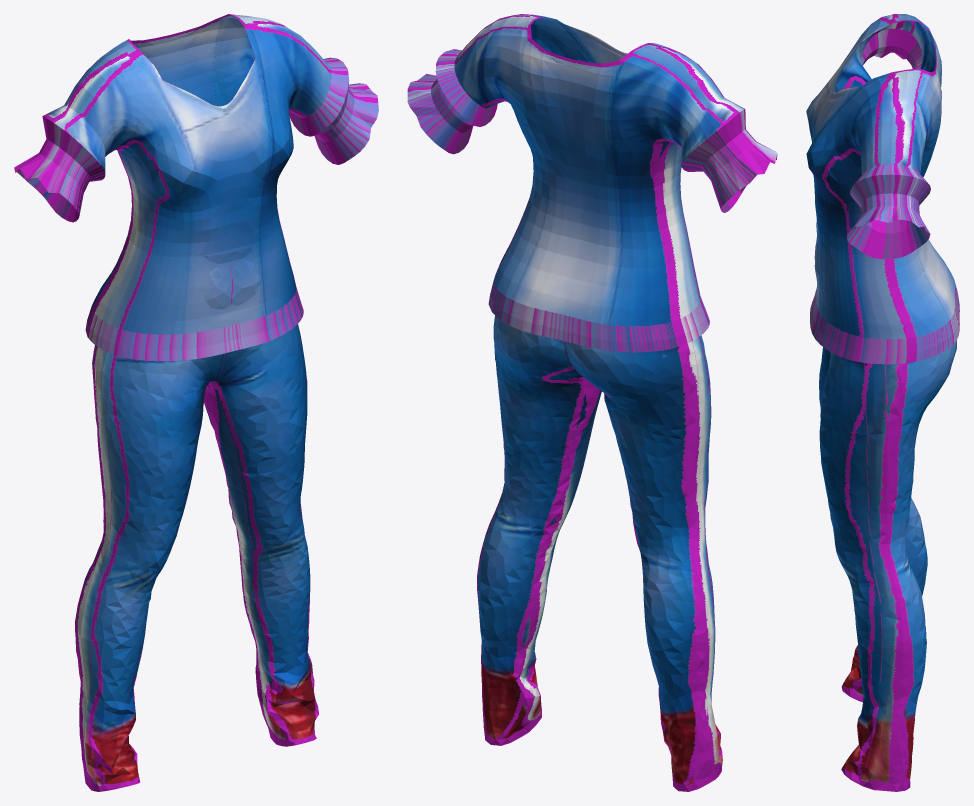
3 views of the same model, side by side, from view 1: azimuth 30°, elevation 25°; view 2: azimuth 150°, elevation 25°; view 3: azimuth 270°, elevation 25° (orthographic). The views are drawn at different scales.
Bounding box in the file's own units: 0.574 × 1.13 × 0.2257.
1 material, 1 textured.
